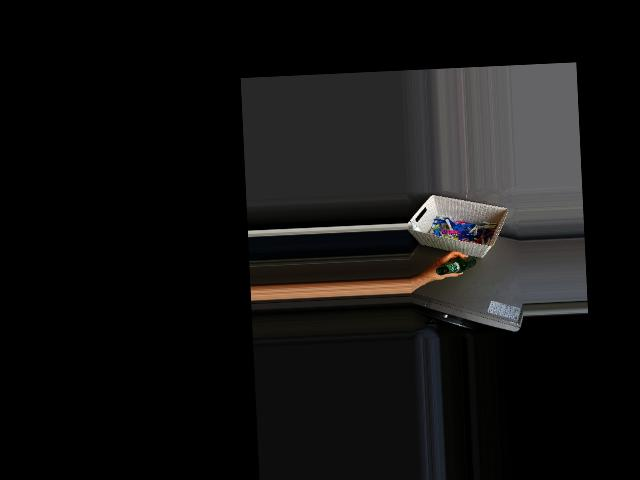beer: (435, 254, 476, 275)
